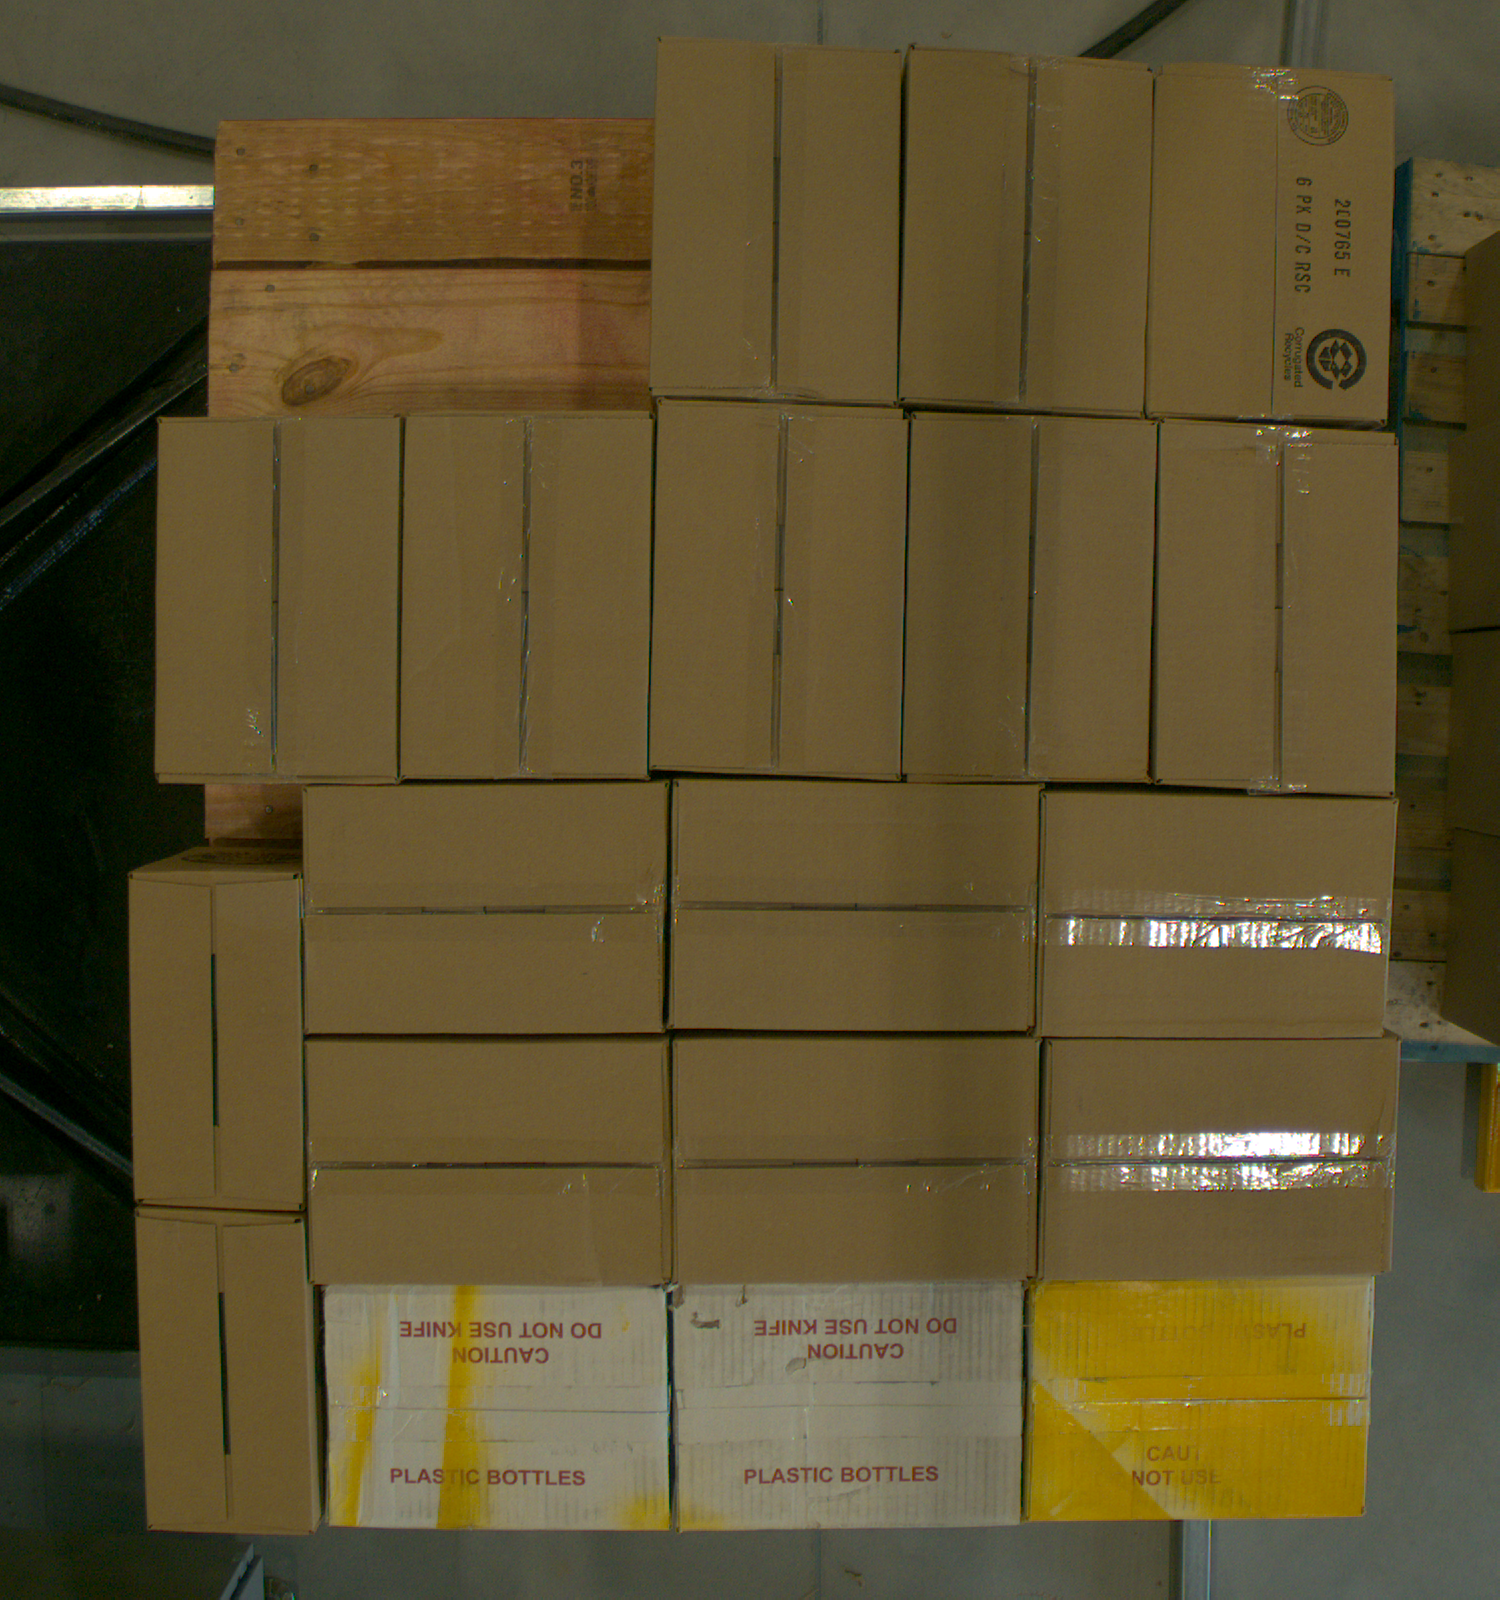box top: (899, 45, 1155, 419), (656, 405, 904, 775), (1157, 419, 1398, 796), (405, 412, 650, 780), (908, 416, 1153, 782), (156, 414, 400, 782), (362, 727, 608, 1091), (672, 784, 1038, 1028), (654, 44, 899, 400), (736, 983, 978, 1342), (1039, 795, 1400, 1036), (1040, 1040, 1401, 1280), (726, 1231, 971, 1582), (1026, 1276, 1375, 1522), (369, 984, 608, 1343), (1155, 68, 1391, 421), (376, 1236, 617, 1577), (130, 873, 303, 1212), (138, 1210, 314, 1537)
